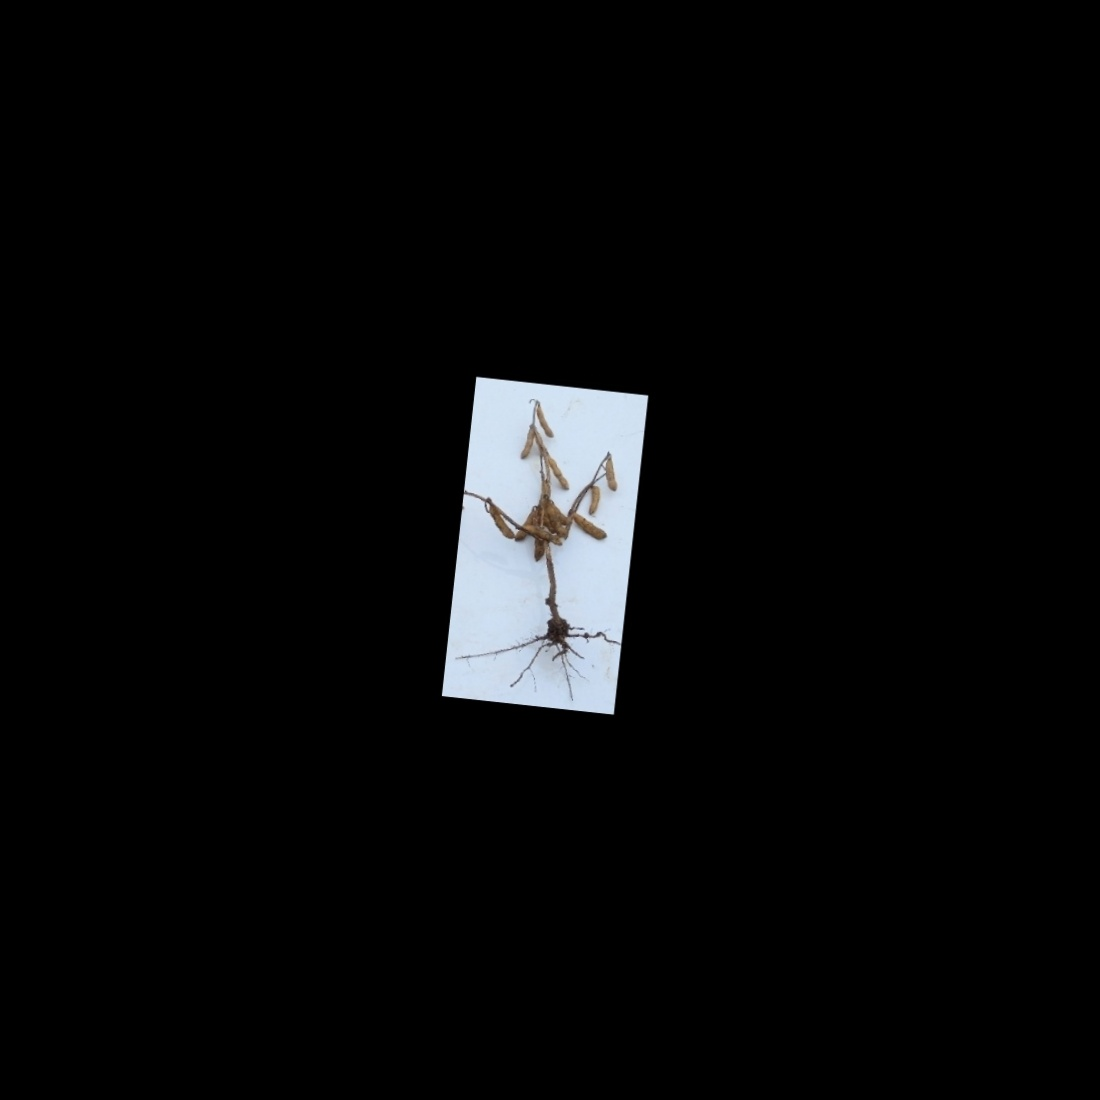pod: (570, 511, 610, 543), (542, 454, 574, 491), (531, 404, 559, 438), (601, 454, 622, 494), (517, 427, 536, 460), (529, 537, 547, 563)
soy: (459, 392, 640, 695)
